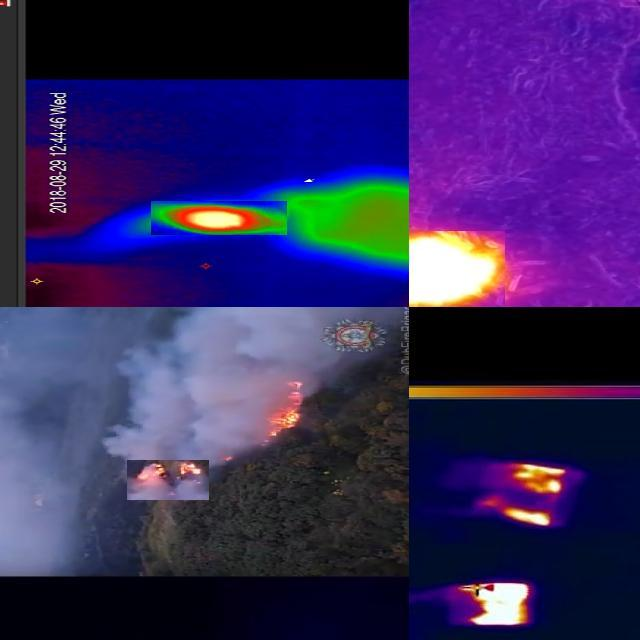fire: (410, 232, 505, 308), (151, 202, 287, 236), (451, 583, 533, 627), (510, 463, 567, 495), (494, 507, 556, 527)
